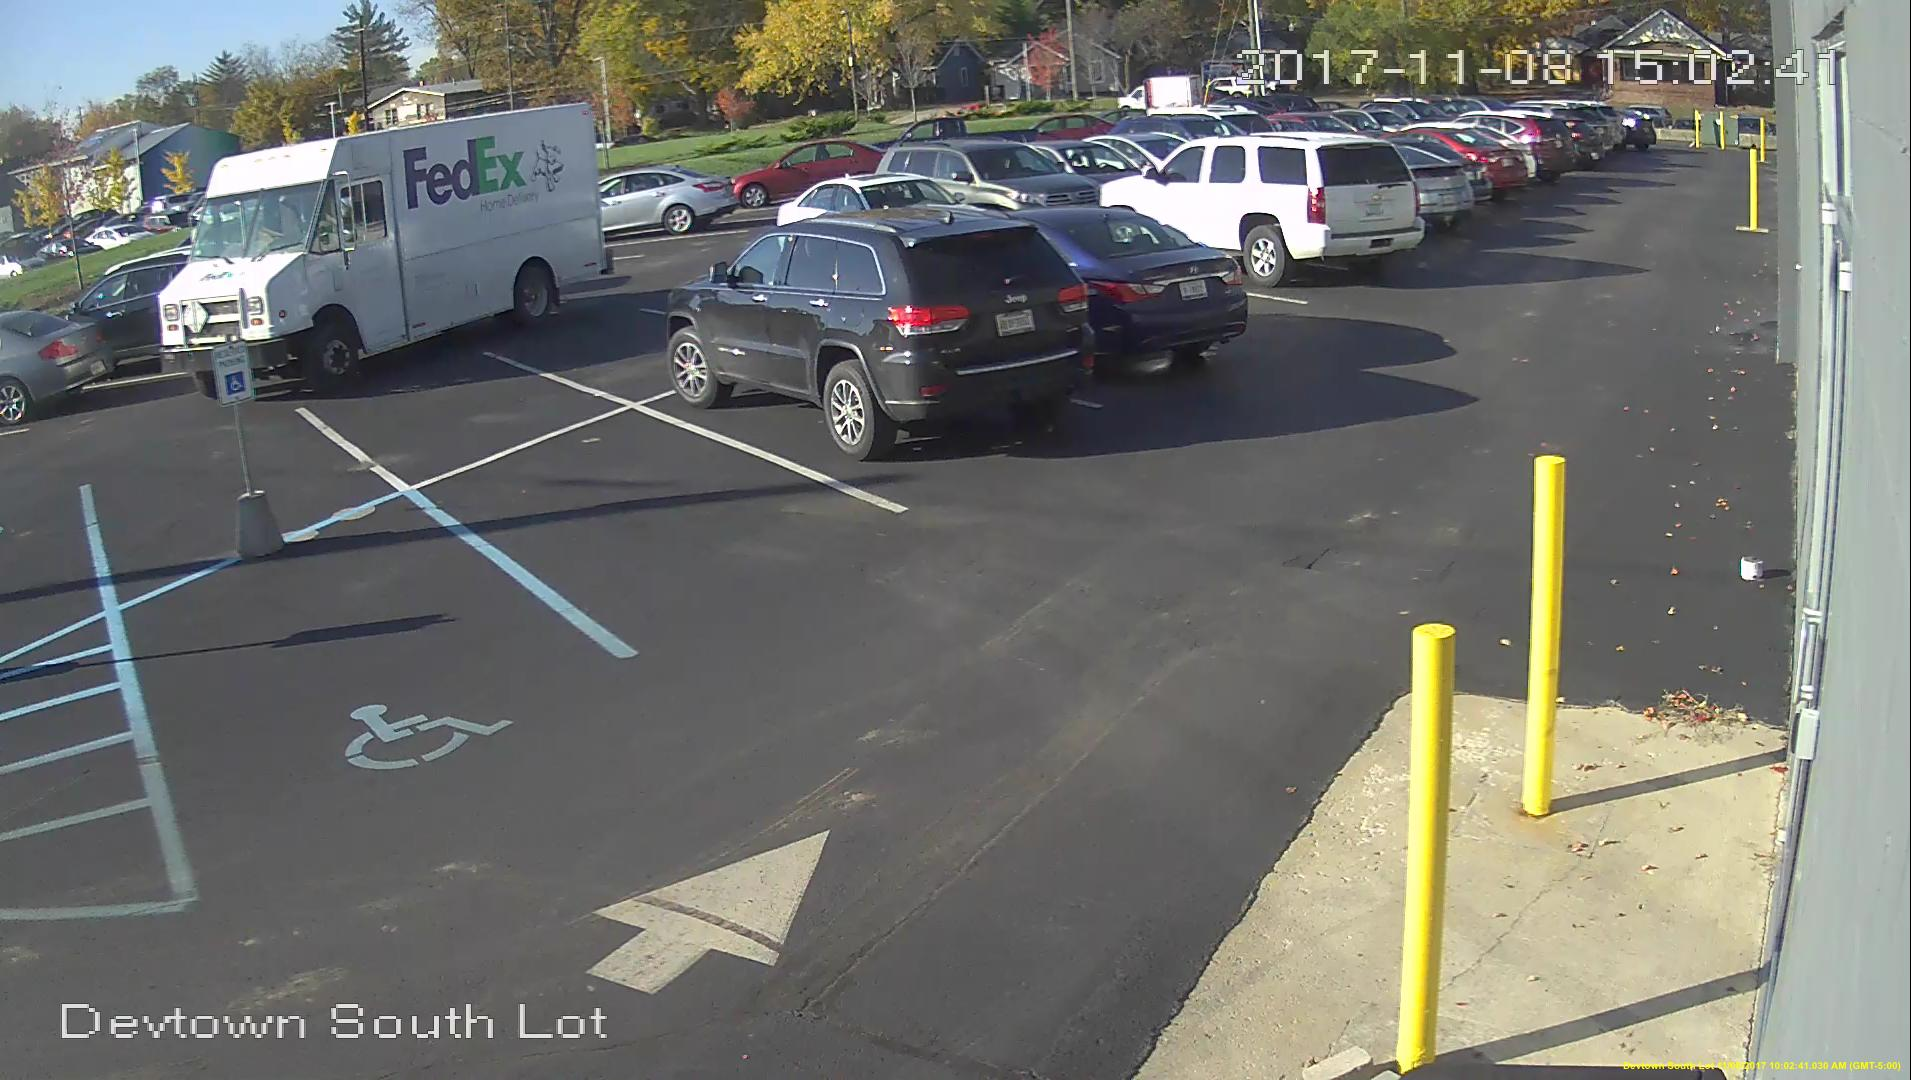fedex_truck: (152, 97, 622, 379)
